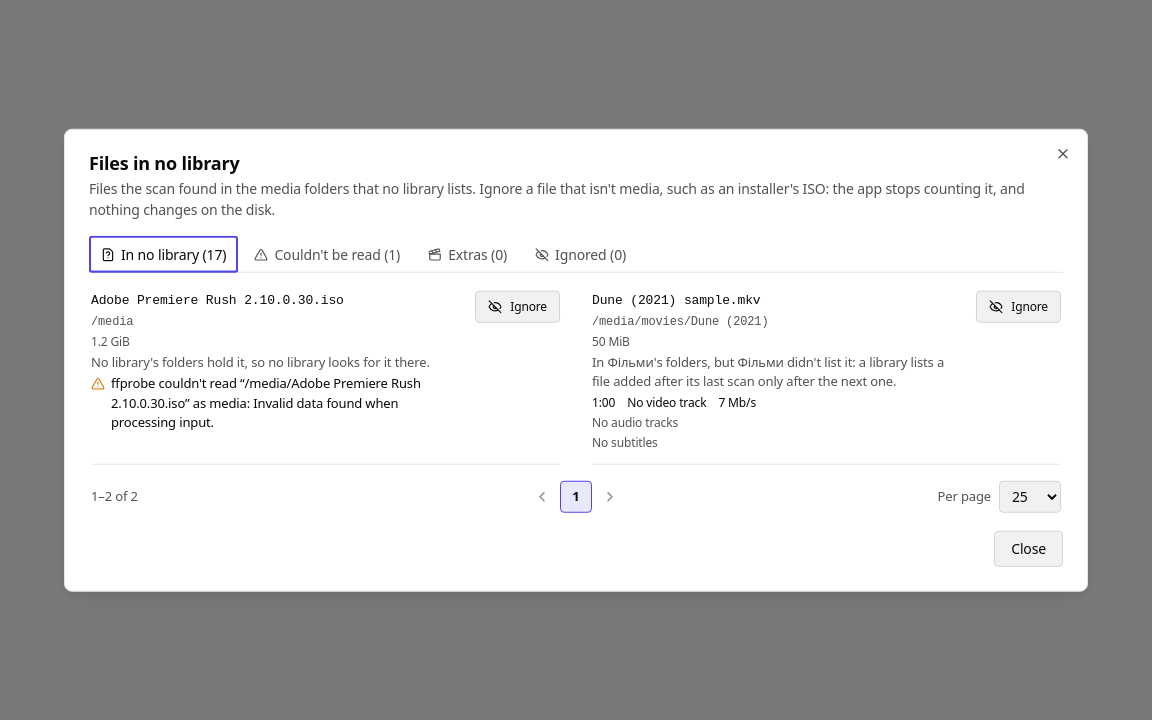
Test: UnreportedFilesDialog › shows a file a scan took away meanwhile on the file's row
This screenshot has width=1152, height=720.
Click the 1st button "Ignore" at point(518, 307), box [475,291,560,323]
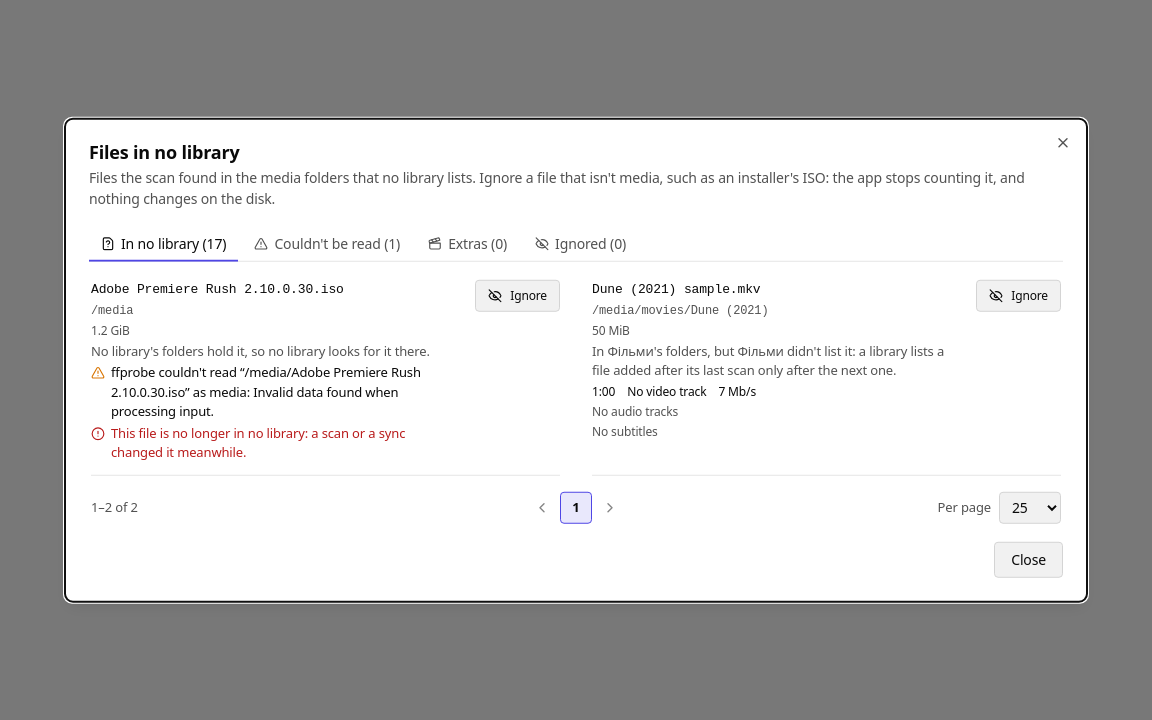
Expected: the message reads "This file is no longer in no library: a scan or a sync changed it meanwhile.", [111,423,405,461]
